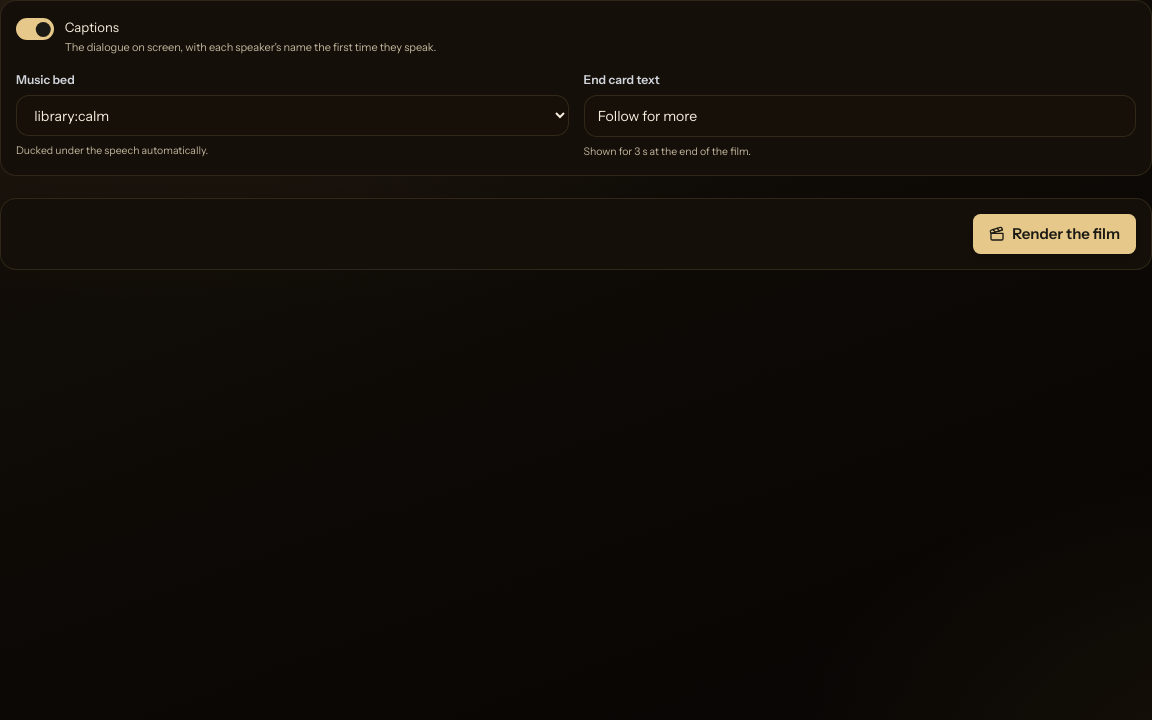
Test: FinishStep › NOT_READY blockers are listed
Click the button "Render the film" at (1054, 234), box [973,214,1136,254]
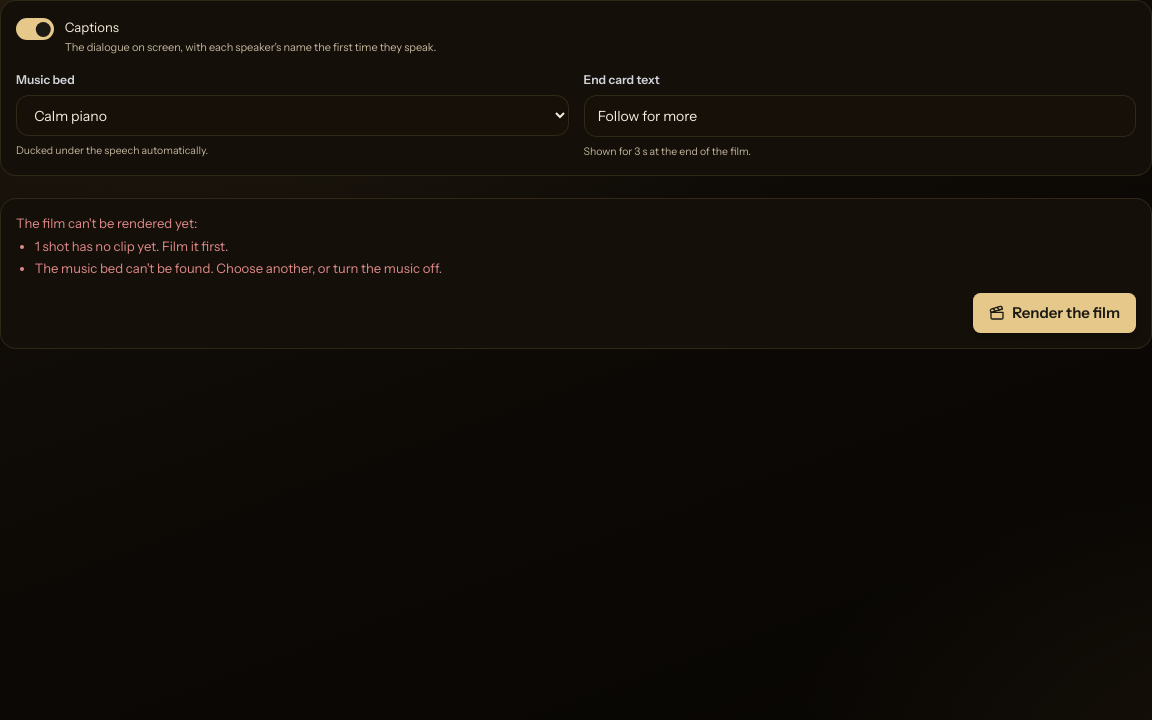
Expected: the message shows "1 shot has no clip yet. Film it first.", [35,238,228,254]
Expected: the message shows "The music bed can't be found. Choose another, or turn the music off.", [35,260,442,276]
